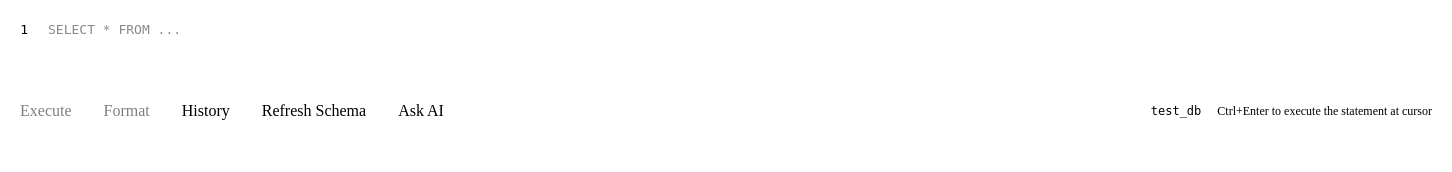
QueryEditor › 应该在输入 SQL 后启用 Execute 按钮
This screenshot has width=1452, height=172.
In the text box with placeholder "SELECT * FROM ...": {"x": 740, "y": 51} x1=40 y1=12 x2=1440 y2=90, type "SELECT * FROM users"
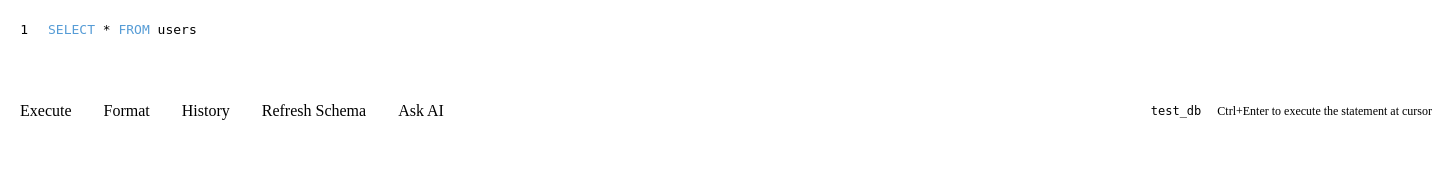
Now the button "Execute" is enabled, box x1=8 y1=98 x2=84 y2=124
